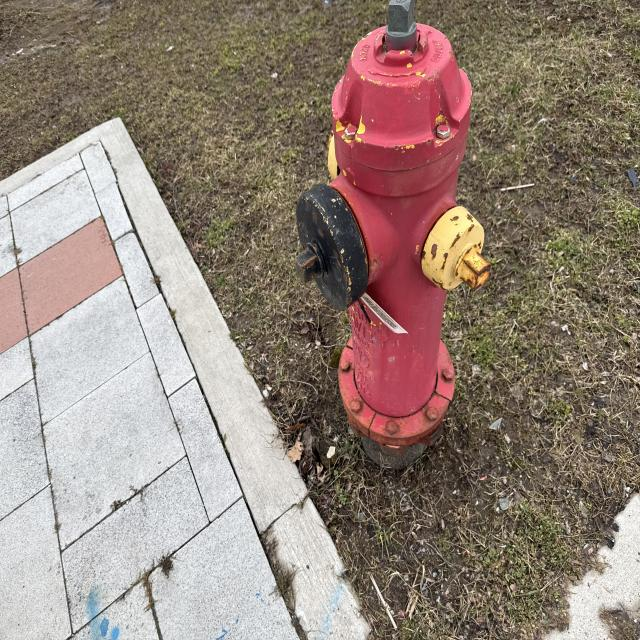Fire hydrant: (293, 0, 492, 458)
